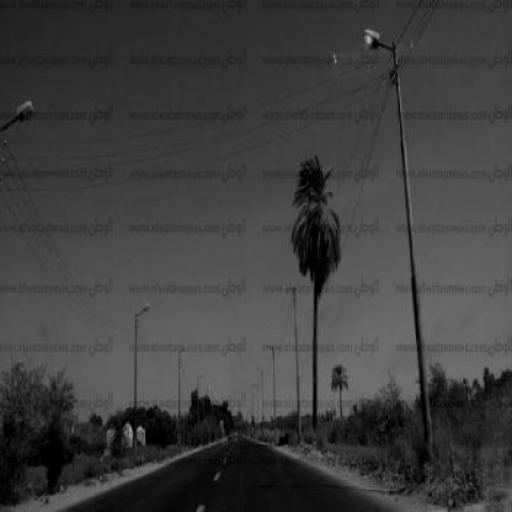street light: (359, 26, 434, 457), (1, 102, 38, 174), (132, 304, 150, 441), (177, 345, 190, 443)
